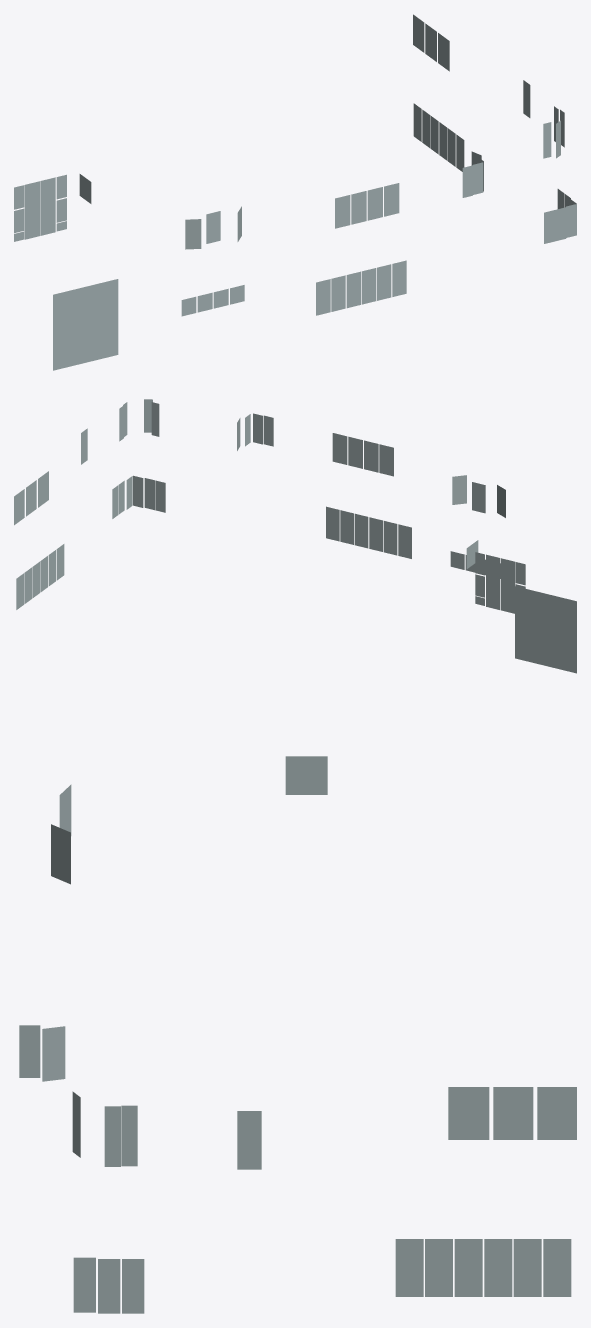
Rendered from Vidrios.obj.
The picture shows the model from 3 angles, top to bottom: view 1: azimuth 30°, elevation 25°; view 2: azimuth 150°, elevation 25°; view 3: azimuth 270°, elevation 25°; orthographic projection. The views are drawn at different scales.
Parts seen in each view (by area): view 1: Vidrios:pasted__pPlane6, Vidrios:pasted__polySurface226, Vidrios:pasted__polySurface228, Vidrios:pasted__polySurface256, Vidrios:pasted__polySurface218, Vidrios:pasted__polySurface250, Vidrios:pasted__polySurface252, Vidrios:pasted__polySurface254, Vidrios:pasted__polySurface260, Vidrios:pasted__polySurface258, Vidrios:pasted__pPlane2, Vidrios:pasted__polySurface293 (+3 smaller); view 2: Vidrios:pasted__pPlane6, Vidrios:pasted__polySurface226, Vidrios:pasted__polySurface228, Vidrios:pasted__polySurface256, Vidrios:pasted__polySurface252, Vidrios:pasted__polySurface293, Vidrios:pasted__polySurface260, Vidrios:pasted__polySurface250, Vidrios:pasted__polySurface258, Vidrios:pasted__polySurface254, Vidrios:pasted__pPlane2, Vidrios:pasted__pPlane3 (+3 smaller); view 3: Vidrios:pasted__polySurface271, Vidrios:pasted__polySurface269, Vidrios:pasted__polySurface273, Vidrios:pasted__polySurface265, Vidrios:pasted__polySurface267, Vidrios:pasted__polySurface264, Vidrios:pasted__polySurface262, Vidrios:pasted__polySurface266, Vidrios:pasted__polySurface224, Vidrios:pasted__polySurface263, Vidrios:pasted__polySurface275, Vidrios:pasted__pPlane10 (+7 smaller).
Part boxes in pixels (left/top/right/bottom): Vidrios:pasted__pPlane6: left=53, top=279, right=118, bottom=370; Vidrios:pasted__polySurface226: left=24, top=181, right=39, bottom=239; Vidrios:pasted__polySurface228: left=40, top=177, right=55, bottom=235; Vidrios:pasted__polySurface256: left=361, top=268, right=376, bottom=304; Vidrios:pasted__polySurface218: left=185, top=219, right=201, bottom=249; Vidrios:pasted__polySurface250: left=316, top=279, right=330, bottom=315; Vidrios:pasted__polySurface252: left=331, top=275, right=345, bottom=311; Vidrios:pasted__polySurface254: left=346, top=271, right=360, bottom=308; Vidrios:pasted__polySurface260: left=392, top=260, right=406, bottom=296; Vidrios:pasted__polySurface258: left=377, top=264, right=391, bottom=300; Vidrios:pasted__pPlane2: left=335, top=195, right=350, bottom=228; Vidrios:pasted__polySurface293: left=384, top=183, right=399, bottom=216; Vidrios:pasted__pPlane6: left=515, top=586, right=576, bottom=673; Vidrios:pasted__polySurface226: left=501, top=558, right=515, bottom=613; Vidrios:pasted__polySurface228: left=486, top=554, right=500, bottom=609; Vidrios:pasted__polySurface256: left=354, top=513, right=368, bottom=548; Vidrios:pasted__polySurface252: left=383, top=521, right=397, bottom=555; Vidrios:pasted__polySurface293: left=332, top=433, right=347, bottom=464; Vidrios:pasted__polySurface260: left=326, top=506, right=339, bottom=541; Vidrios:pasted__polySurface250: left=398, top=524, right=411, bottom=558; Vidrios:pasted__polySurface258: left=340, top=510, right=353, bottom=544; Vidrios:pasted__polySurface254: left=369, top=517, right=382, bottom=551; Vidrios:pasted__pPlane2: left=379, top=444, right=393, bottom=476; Vidrios:pasted__pPlane3: left=364, top=440, right=378, bottom=472; Vidrios:pasted__polySurface271: left=448, top=1087, right=489, bottom=1139; Vidrios:pasted__polySurface269: left=493, top=1087, right=533, bottom=1139; Vidrios:pasted__polySurface273: left=537, top=1087, right=576, bottom=1139; Vidrios:pasted__polySurface265: left=484, top=1239, right=512, bottom=1296; Vidrios:pasted__polySurface267: left=543, top=1239, right=571, bottom=1296; Vidrios:pasted__polySurface264: left=454, top=1239, right=482, bottom=1296; Vidrios:pasted__polySurface262: left=395, top=1239, right=423, bottom=1296; Vidrios:pasted__polySurface266: left=513, top=1239, right=541, bottom=1296; Vidrios:pasted__polySurface224: left=285, top=756, right=327, bottom=794; Vidrios:pasted__polySurface263: left=425, top=1239, right=452, bottom=1296; Vidrios:pasted__polySurface275: left=237, top=1111, right=261, bottom=1169; Vidrios:pasted__pPlane10: left=73, top=1257, right=95, bottom=1312.
Size of the model in its own units: 26.35 by 7.87 by 14.83.
1 material, 1 textured.
